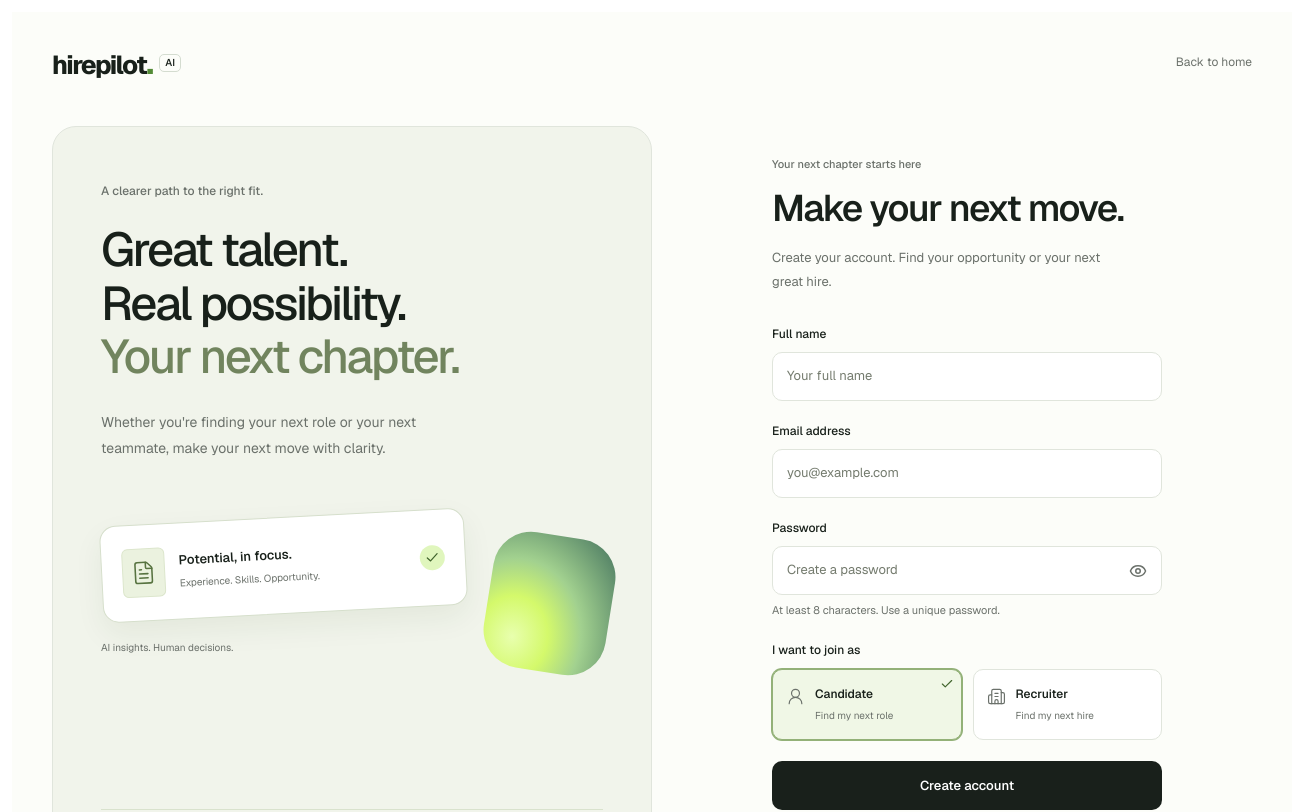
Test: real forms, provider, API client, and route guards › registers a Candidate then allows login without verification
Expected: the heading "Make your next move." is shown, [772,187,1162,230]
Type "  Taylor Reed  " into the field labelled "Full name" at (967, 376), box [772,352,1162,401]
Type "NEW@EXAMPLE.COM" into the field labelled "Email address" at (967, 474), box [772,449,1162,498]
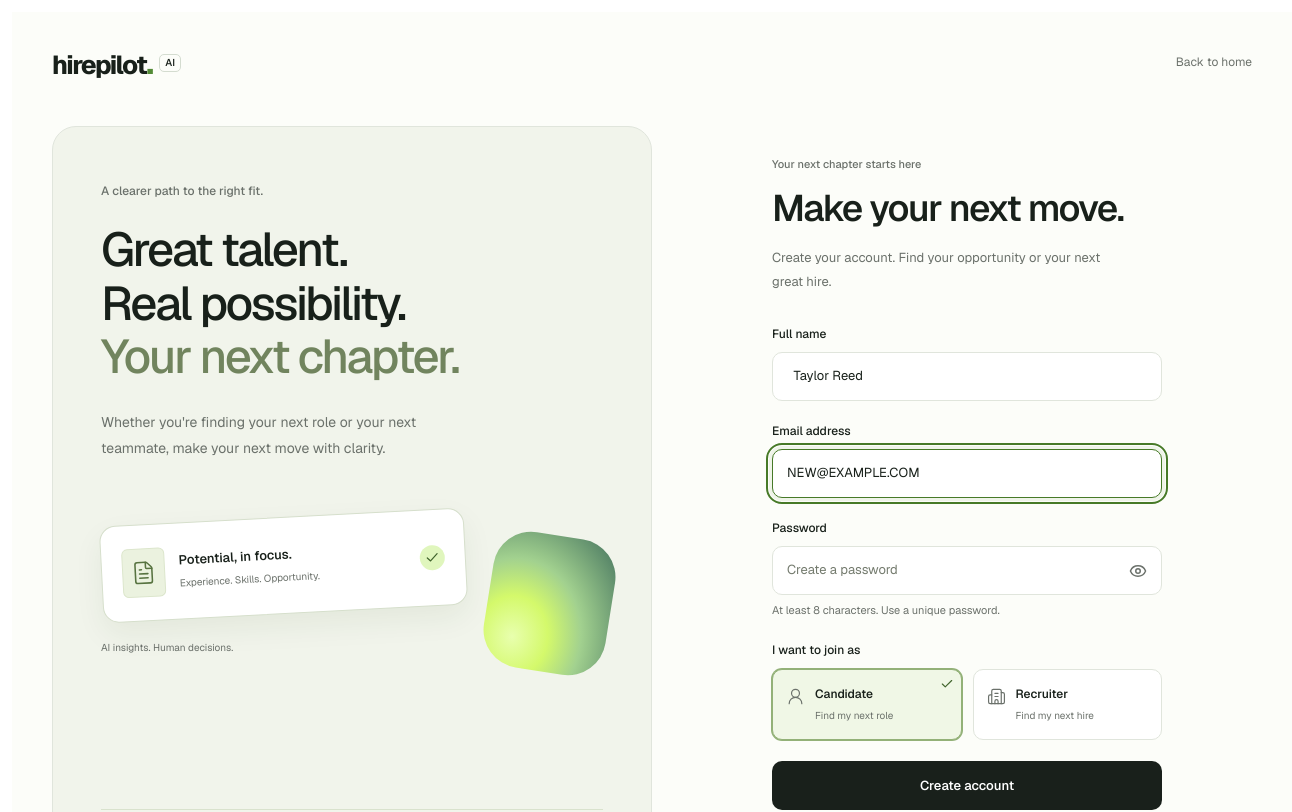
Type "password123" into the password field labelled "Password" at (967, 571), box [772,546,1162,595]
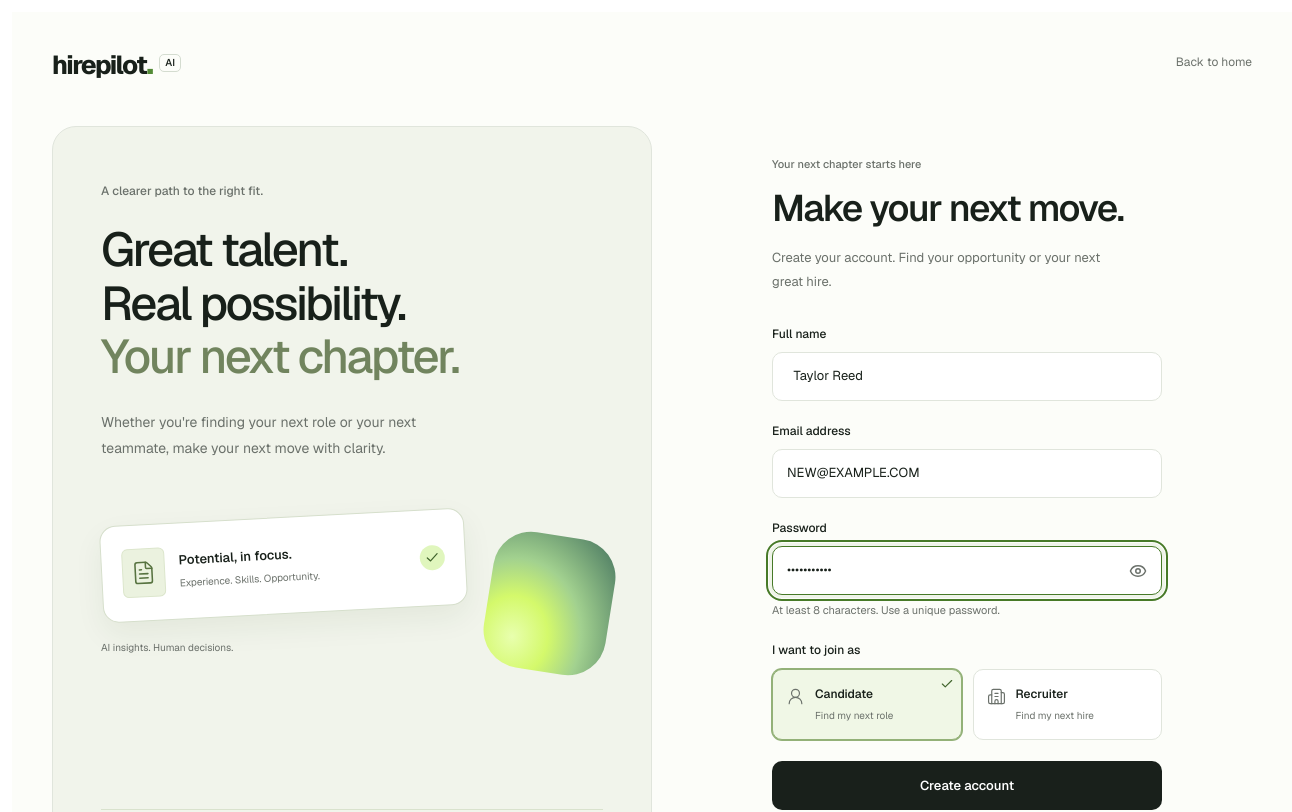
Click the radio button labelled "Candidate Find my next role" at (867, 704), box [772,669,962,740]
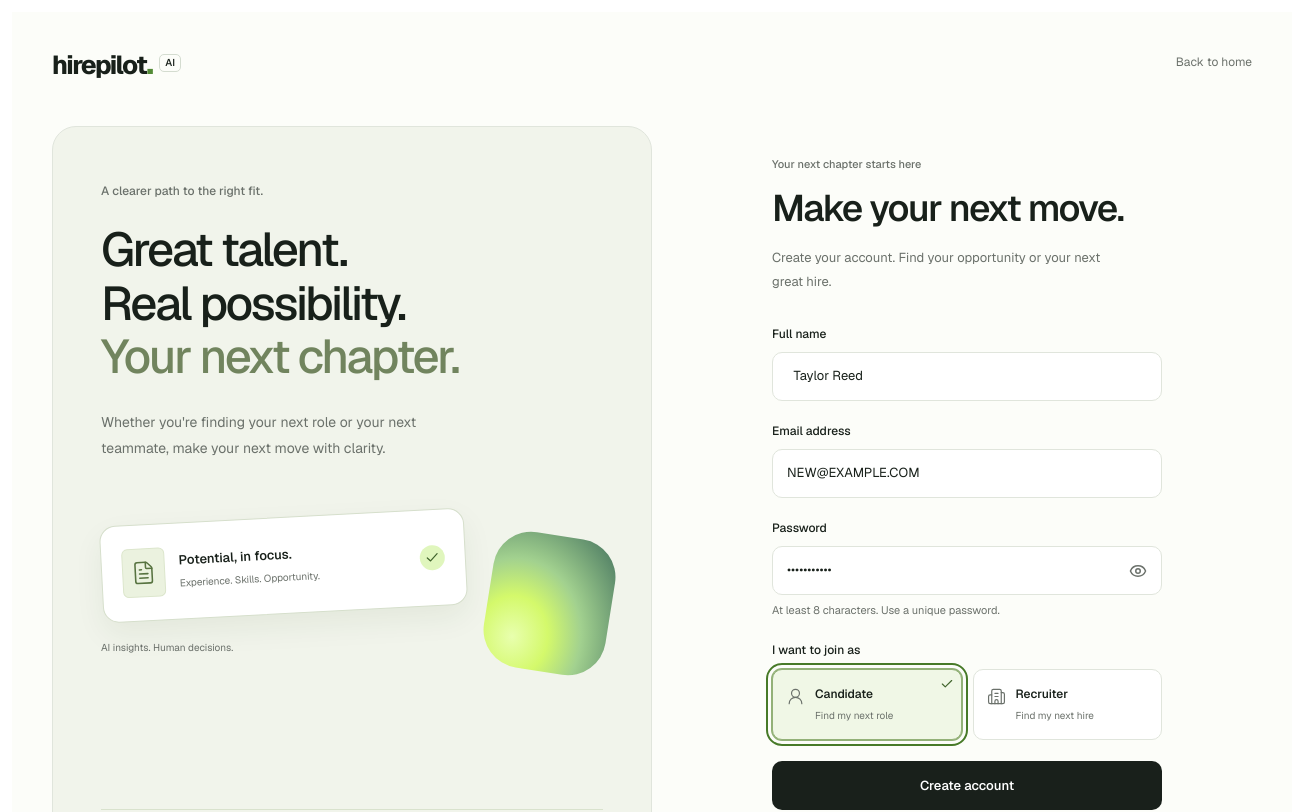
Click the button "Create account" at (967, 786), box [772,761,1162,810]
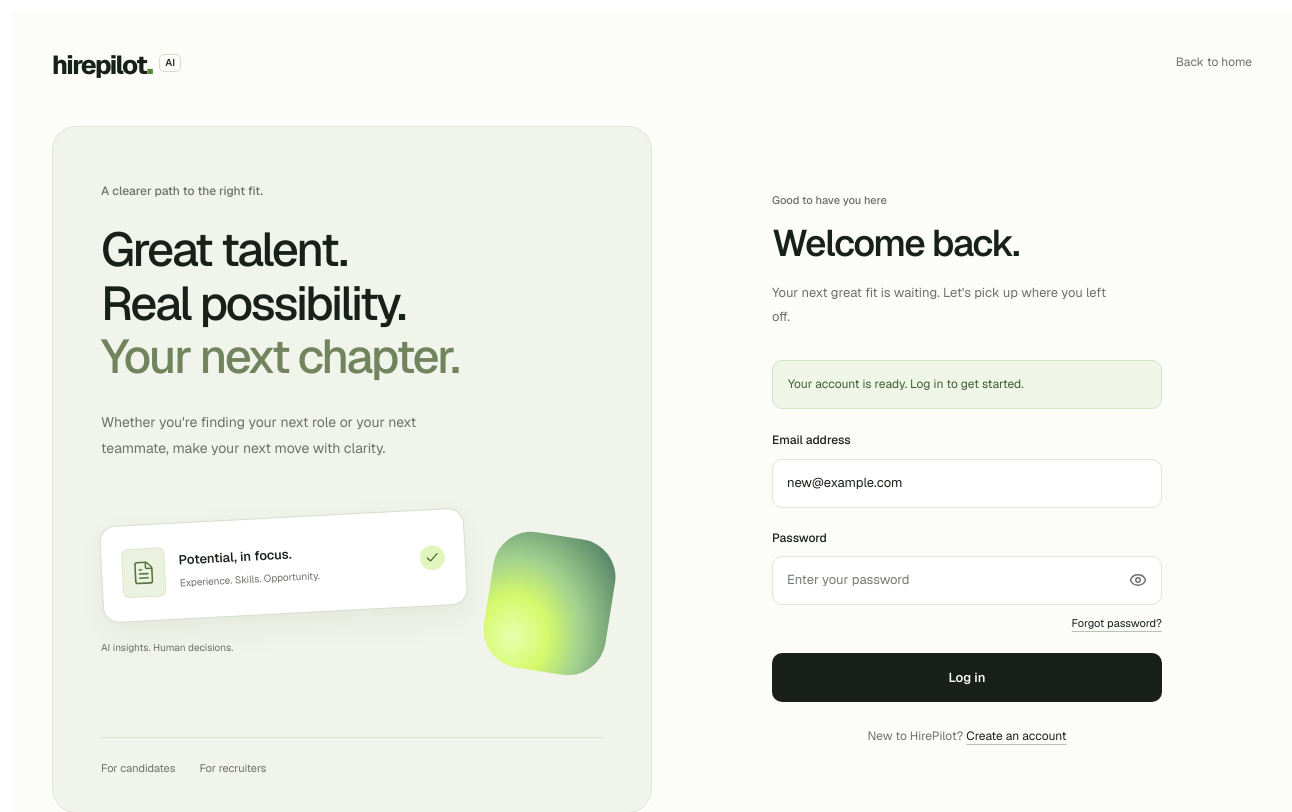
Expected: the heading "Welcome back." is shown, [772,220,1019,268]
Expected: the message shows "Your account is ready", [788,376,1024,392]
Expected: the field labelled "Email address" holds "new@example.com", [772,459,1162,508]
Type "password123" into the password field labelled "Password" at (967, 580), box [772,556,1162,605]
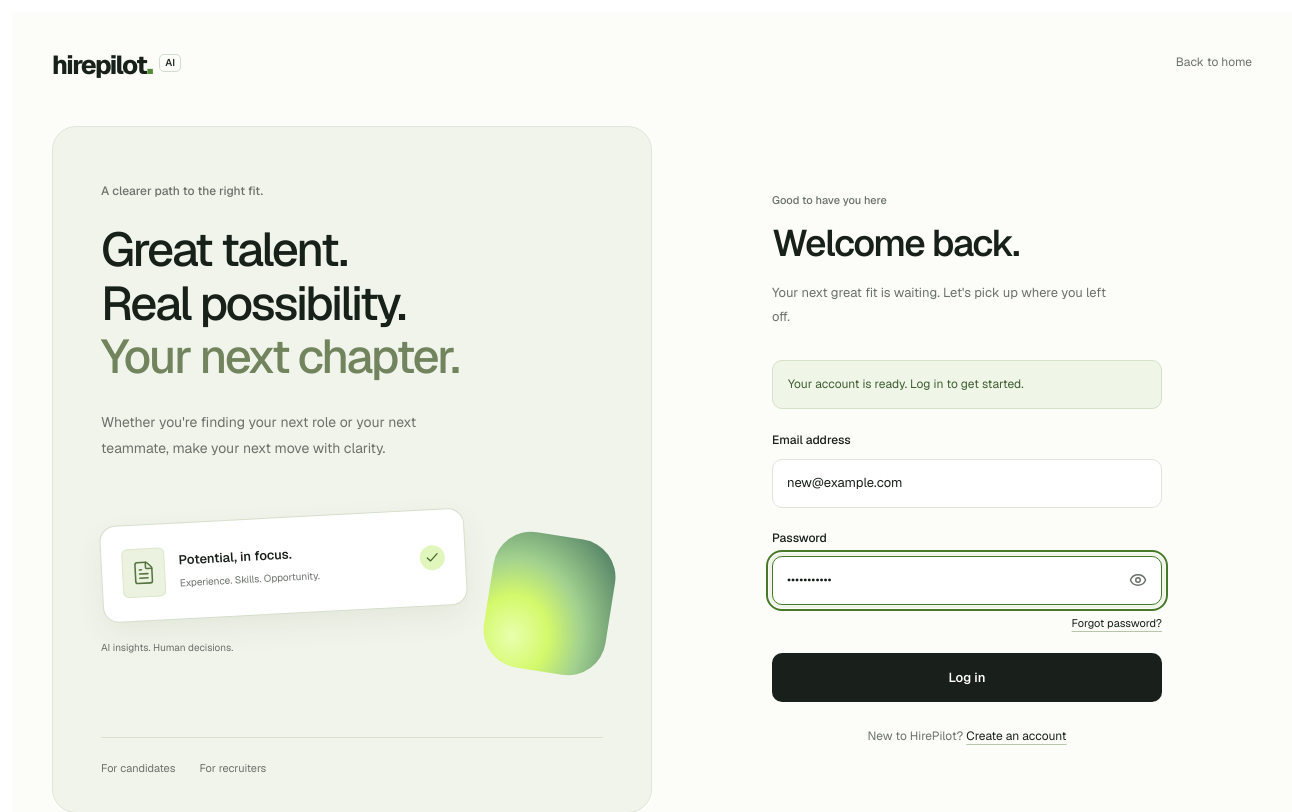
Click the button "Log in" at (967, 678), box [772,653,1162,702]
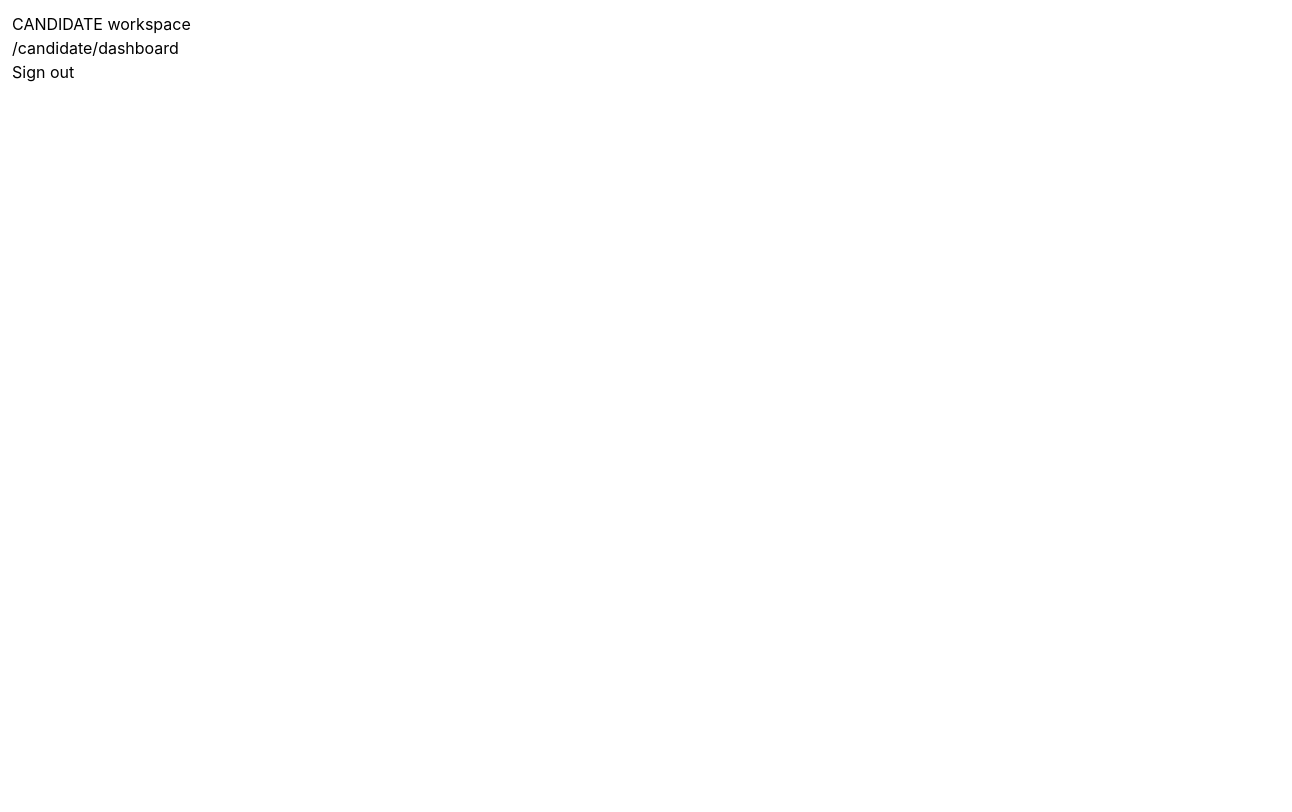
Expected: the heading "CANDIDATE workspace" is shown, [12,14,191,34]
